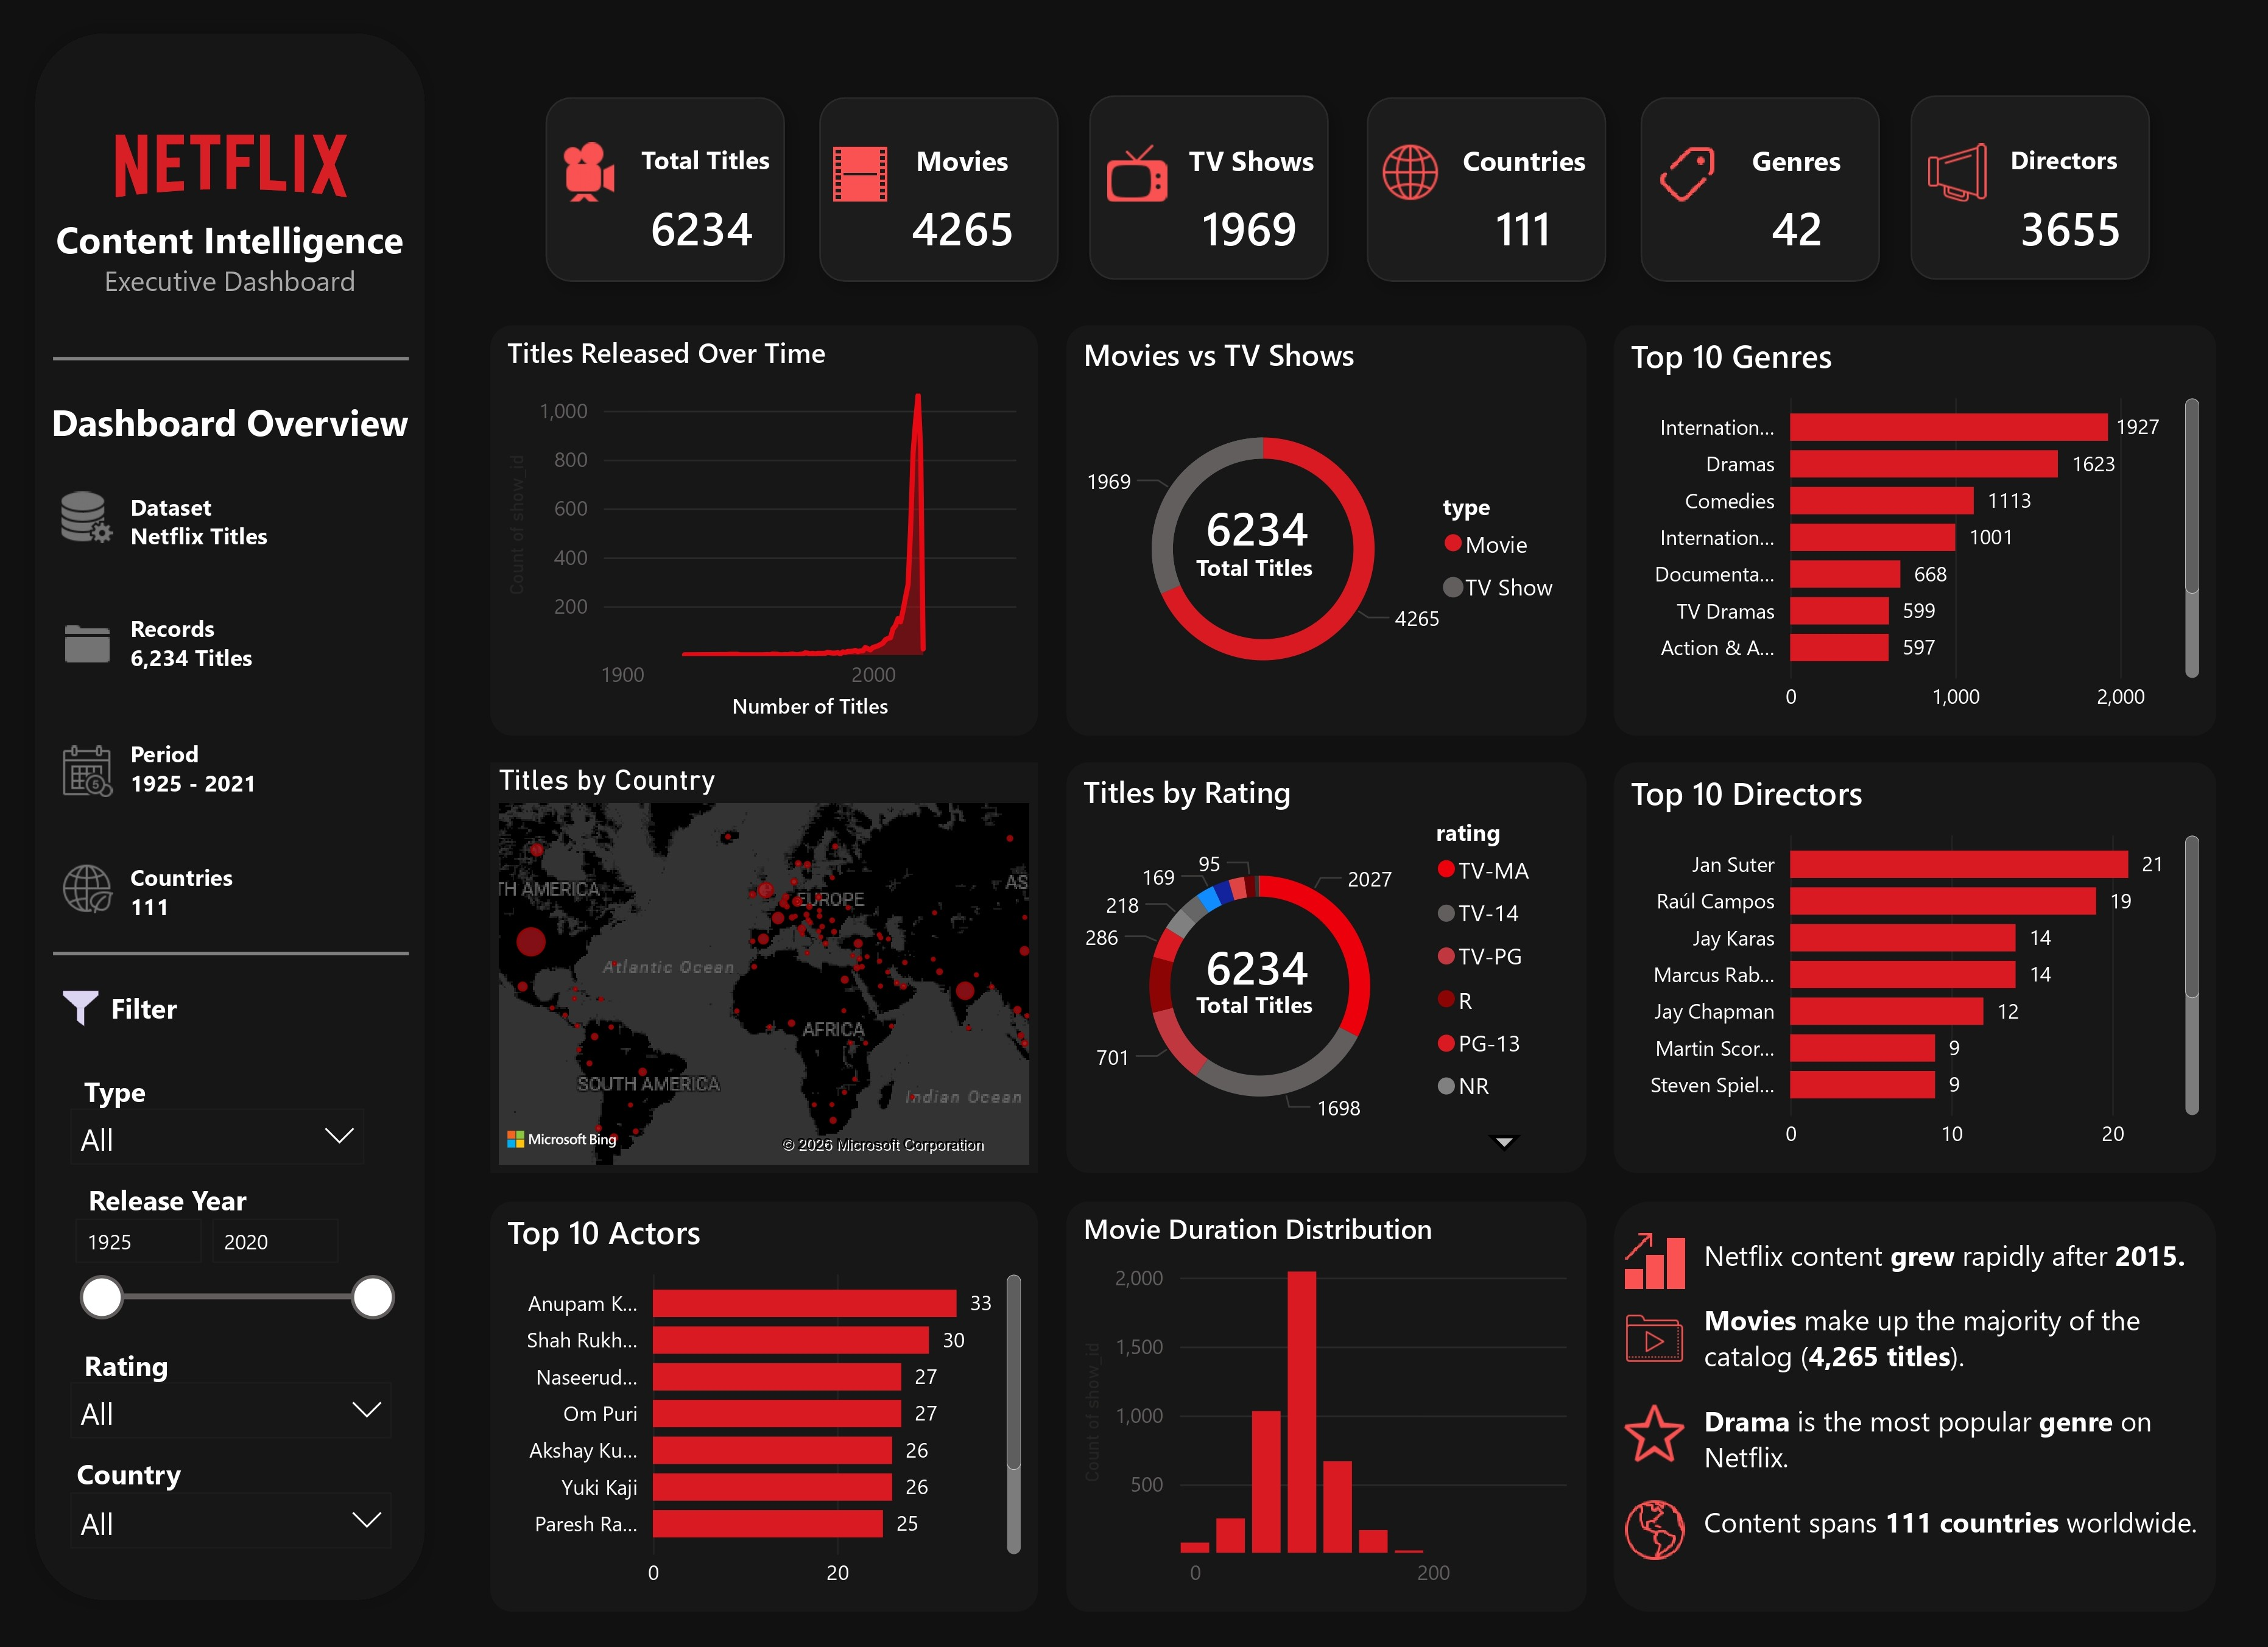

This screenshot's page, from the dashboard's own definition file:
{"tool":"powerbi","page":{"name":"Page 2","canvas":[1318,958],"ordinal":0},"visuals":[{"type":"shape","box":[16,16,240,928],"z":0},{"type":"image","box":[32,26.7,208,144],"z":1000},{"type":"textbox","box":[16,122.7,240,96],"z":2000},{"type":"shape","box":[627.6,48,160,128],"z":3000},{"type":"shape","box":[790.5,49.3,160,128],"z":4000},{"type":"shape","box":[950.5,49.3,160,128],"z":5000},{"type":"shape","box":[1107.6,48,160,128],"z":6000},{"type":"shape","box":[310.5,49.3,160,128],"z":7000},{"type":"shape","box":[470.5,49.3,160,128],"z":8000},{"type":"image","box":[323.6,80,45,45],"z":9000},{"type":"textbox","box":[371.6,80,96,48],"z":10000},{"type":"textbox","box":[515.6,80,96,48],"z":11000},{"type":"textbox","box":[691.6,80,96,32],"z":12000},{"type":"textbox","box":[851.6,80,96,32],"z":13000},{"type":"textbox","box":[1011.6,80,80,32],"z":14000},{"type":"textbox","box":[1171.6,80,96,48],"z":15000},{"type":"image","box":[480,80,48,48],"z":16000},{"type":"image","box":[643.6,80,45,45],"z":17000},{"type":"image","box":[1123.6,80,44,45],"z":18000},{"type":"image","box":[803.6,80,45,45],"z":19000},{"type":"image","box":[963.6,80,48,48],"z":20000},{"type":"card","fields":{"Values":["CountNonNull(netflix_analytics clean_netflix_titles.show_id)"]},"box":[371.6,112,80,48],"z":21000},{"type":"card","fields":{"Values":["CountNonNull(netflix_analytics clean_netflix_titles.show_id)"]},"box":[499.6,112,128,48],"z":22000},{"type":"card","fields":{"Values":["CountNonNull(netflix_analytics clean_netflix_titles.show_id)"]},"box":[675.6,112,112,48],"z":23000},{"type":"card","fields":{"Values":["CountNonNull(netflix_analytics countries.country_id)"]},"box":[835.6,112,112,48],"z":24000},{"type":"card","fields":{"Values":["CountNonNull(netflix_analytics genres.genre_id)"]},"box":[995.6,112,112,48],"z":25000},{"type":"card","fields":{"Values":["Count(netflix_analytics title_director.director_id)"]},"box":[1155.6,112,112,48],"z":26000},{"type":"stackedAreaChart","title":"Titles Released Over Time","fields":{"Category":["netflix_analytics clean_netflix_titles.release_year"],"Y":["CountNonNull(netflix_analytics clean_netflix_titles.show_id)"]},"box":[288,192,320,240],"z":27000},{"type":"donutChart","title":"Movies vs TV Shows","fields":{"Category":["netflix_analytics clean_netflix_titles.type"],"Y":["CountNonNull(netflix_analytics clean_netflix_titles.show_id)"]},"box":[624,192,304,240],"z":28000},{"type":"textbox","box":[688,320,112,48],"z":29000},{"type":"card","fields":{"Values":["CountNonNull(netflix_analytics clean_netflix_titles.show_id)"]},"box":[688,288,96,48],"z":30000},{"type":"clusteredBarChart","title":"Top 10 Genres","fields":{"Category":["netflix_analytics genres.genre_name"],"Y":["CountNonNull(netflix_analytics title_genre.show_id)"]},"box":[944,192,352,240],"z":31000},{"type":"map","title":"Titles by Country","fields":{"Category":["netflix_analytics countries.country_name"],"Size":["CountNonNull(netflix_analytics title_country.show_id)"]},"box":[288,448,320,240],"z":32000},{"type":"donutChart","title":"Titles by Rating","fields":{"Y":["CountNonNull(netflix_analytics clean_netflix_titles.show_id)"],"Category":["netflix_analytics clean_netflix_titles.rating"]},"box":[624,448,304,240],"z":33000},{"type":"card","fields":{"Values":["CountNonNull(netflix_analytics clean_netflix_titles.show_id)"]},"box":[688,544,96,48],"z":34000},{"type":"textbox","box":[688,576,96,48],"z":35000},{"type":"clusteredBarChart","title":"Top 10 Directors","fields":{"Y":["CountNonNull(netflix_analytics title_director.show_id)"],"Category":["netflix_analytics directors.director_name"]},"box":[944,448,352,240],"z":36000},{"type":"clusteredBarChart","title":"Top 10 Actors","fields":{"Category":["netflix_analytics actors.actor_name"],"Y":["CountNonNull(netflix_analytics title_actor.show_id)"]},"box":[288,704,320,240],"z":37000},{"type":"clusteredColumnChart","title":"Movie Duration Distribution","fields":{"Y":["CountNonNull(netflix_analytics clean_netflix_titles.show_id)"],"Category":["netflix_analytics clean_netflix_titles.duration_minutes (bins)"]},"box":[624,704,304,240],"z":38000},{"type":"shape","box":[944,704,352,240],"z":39000},{"type":"textbox","box":[992,720,299,224],"z":40000},{"type":"image","box":[944,816,48,48],"z":41000},{"type":"image","box":[944,864,48,64],"z":42000},{"type":"image","box":[944,752,48,64],"z":43000},{"type":"image","box":[944,704,48,64],"z":44000},{"type":"shape","box":[32,147.6,208,128],"z":45000},{"type":"textbox","box":[16,228.7,240,56],"z":46000},{"type":"image","box":[32,500.7,40,40],"z":47000},{"type":"image","box":[32,428.7,40,48],"z":48000},{"type":"image","box":[32,284,40,40],"z":49000},{"type":"image","box":[32,356,40,48],"z":50000},{"type":"textbox","box":[72,284,112,56],"z":51000},{"type":"textbox","box":[72,356,112,56],"z":52000},{"type":"textbox","box":[72,428.7,112,56],"z":53000},{"type":"textbox","box":[72,500.7,112,48],"z":54000},{"type":"shape","box":[32,496,208,128],"z":55000},{"type":"slicer","fields":{"Values":["netflix_analytics clean_netflix_titles.type"]},"box":[32,640,192,48],"z":56000},{"type":"slicer","fields":{"Values":["netflix_analytics clean_netflix_titles.release_year"]},"box":[32,704,208,80],"z":57000},{"type":"slicer","fields":{"Values":["netflix_analytics clean_netflix_titles.rating"]},"box":[32,800,208,48],"z":58000},{"type":"slicer","fields":{"Values":["netflix_analytics countries.country_name"]},"box":[32,864,208,64],"z":59000},{"type":"textbox","box":[32,624,192,80],"z":60000},{"type":"textbox","box":[48,688,192,96],"z":61000},{"type":"textbox","box":[32,784,192,80],"z":62000},{"type":"textbox","box":[32,848,192,80],"z":63000},{"type":"image","box":[32,576,32,32],"z":64000},{"type":"textbox","box":[48,576,192,64],"z":65000}]}

Visuals, with their boxes in screenshot pixels (x1, y1, x2, y2), scaled from the page's 1318x958 canvas onto the 2268x1647 screenshot:
shape: locate(27, 27, 440, 1623)
image: locate(55, 46, 413, 293)
textbox: locate(27, 211, 440, 376)
shape: locate(1080, 83, 1355, 303)
shape: locate(1361, 85, 1636, 305)
shape: locate(1636, 85, 1911, 305)
shape: locate(1906, 83, 2182, 303)
shape: locate(534, 85, 809, 305)
shape: locate(809, 85, 1085, 305)
image: locate(557, 138, 634, 215)
textbox: locate(639, 138, 805, 220)
textbox: locate(887, 138, 1052, 220)
textbox: locate(1190, 138, 1355, 192)
textbox: locate(1465, 138, 1630, 192)
textbox: locate(1741, 138, 1878, 192)
textbox: locate(2016, 138, 2182, 220)
image: locate(826, 138, 909, 220)
image: locate(1107, 138, 1185, 215)
image: locate(1934, 138, 2009, 215)
image: locate(1383, 138, 1460, 215)
image: locate(1658, 138, 1741, 220)
card - CountNonNull(netflix_analytics clean_netflix_titles.show_id): locate(639, 192, 777, 275)
card - CountNonNull(netflix_analytics clean_netflix_titles.show_id): locate(860, 192, 1080, 275)
card - CountNonNull(netflix_analytics clean_netflix_titles.show_id): locate(1163, 192, 1355, 275)
card - CountNonNull(netflix_analytics countries.country_id): locate(1438, 192, 1630, 275)
card - CountNonNull(netflix_analytics genres.genre_id): locate(1713, 192, 1906, 275)
card - Count(netflix_analytics title_director.director_id): locate(1988, 192, 2182, 275)
"Titles Released Over Time" stackedAreaChart: locate(496, 330, 1046, 743)
"Movies vs TV Shows" donutChart: locate(1074, 330, 1597, 743)
textbox: locate(1184, 550, 1376, 633)
card - CountNonNull(netflix_analytics clean_netflix_titles.show_id): locate(1184, 495, 1349, 578)
"Top 10 Genres" clusteredBarChart: locate(1624, 330, 2230, 743)
"Titles by Country" map: locate(496, 770, 1046, 1183)
"Titles by Rating" donutChart: locate(1074, 770, 1597, 1183)
card - CountNonNull(netflix_analytics clean_netflix_titles.show_id): locate(1184, 935, 1349, 1018)
textbox: locate(1184, 990, 1349, 1073)
"Top 10 Directors" clusteredBarChart: locate(1624, 770, 2230, 1183)
"Top 10 Actors" clusteredBarChart: locate(496, 1210, 1046, 1623)
"Movie Duration Distribution" clusteredColumnChart: locate(1074, 1210, 1597, 1623)
shape: locate(1624, 1210, 2230, 1623)
textbox: locate(1707, 1238, 2222, 1623)
image: locate(1624, 1403, 1707, 1486)
image: locate(1624, 1486, 1707, 1595)
image: locate(1624, 1293, 1707, 1403)
image: locate(1624, 1210, 1707, 1321)
shape: locate(55, 254, 413, 474)
textbox: locate(27, 393, 440, 490)
image: locate(55, 861, 124, 930)
image: locate(55, 737, 124, 820)
image: locate(55, 488, 124, 557)
image: locate(55, 612, 124, 695)
textbox: locate(124, 488, 317, 585)
textbox: locate(124, 612, 317, 708)
textbox: locate(124, 737, 317, 834)
textbox: locate(124, 861, 317, 943)
shape: locate(55, 853, 413, 1073)
slicer - netflix_analytics clean_netflix_titles.type: locate(55, 1100, 386, 1183)
slicer - netflix_analytics clean_netflix_titles.release_year: locate(55, 1210, 413, 1348)
slicer - netflix_analytics clean_netflix_titles.rating: locate(55, 1375, 413, 1458)
slicer - netflix_analytics countries.country_name: locate(55, 1486, 413, 1595)
textbox: locate(55, 1073, 386, 1210)
textbox: locate(83, 1183, 413, 1348)
textbox: locate(55, 1348, 386, 1486)
textbox: locate(55, 1458, 386, 1595)
image: locate(55, 990, 110, 1045)
textbox: locate(83, 990, 413, 1100)
